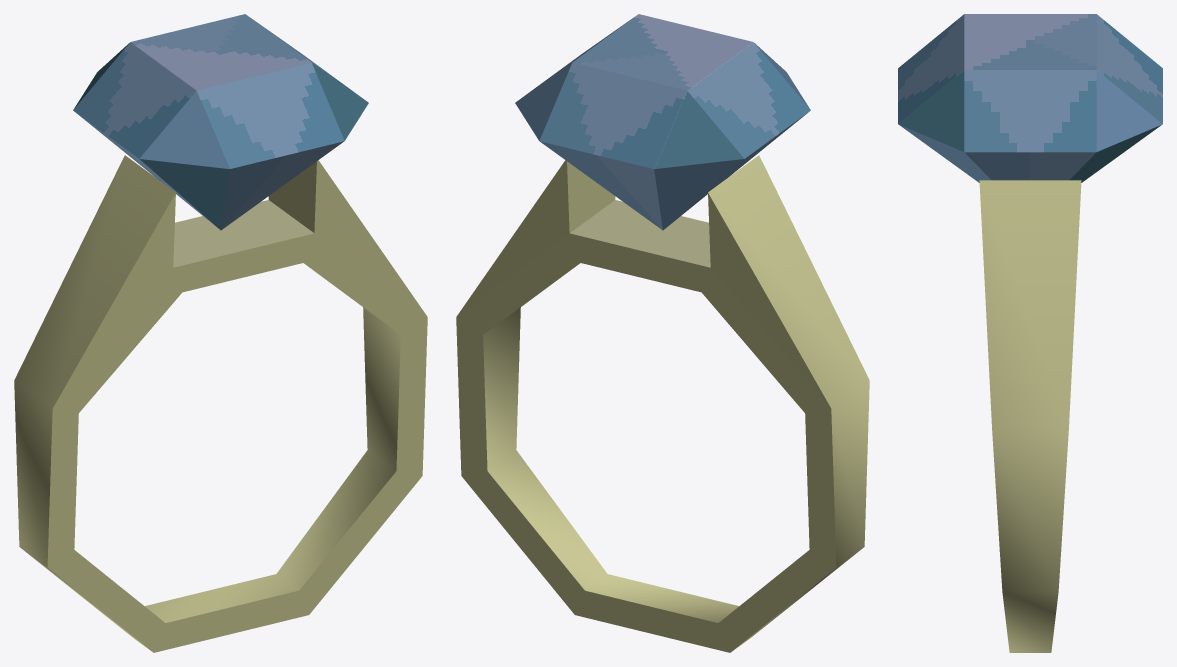
Rendered from 0033_Sapphire_Ring.glb.
3 renders of one model, left to right at view 1: azimuth 30°, elevation 25°; view 2: azimuth 150°, elevation 25°; view 3: azimuth 270°, elevation 25°, orthographic.
Parts seen in each view (by area): view 1: part_0; view 2: part_0; view 3: part_0.
Boxes of the visible parts, <box> form: part_0: <box>14,14,427,652</box>; part_0: <box>456,14,869,652</box>; part_0: <box>898,14,1162,652</box>.
Size of the model in its own units: 0.0323 by 0.0472 by 0.0198.
1 material, 1 textured.
